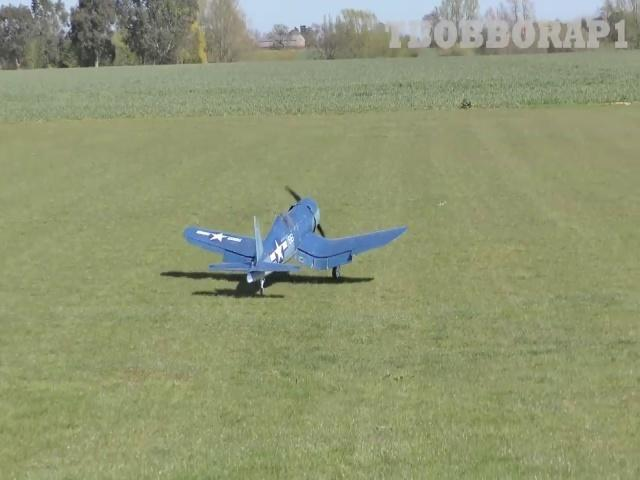Airplane: (183, 186, 407, 296)
